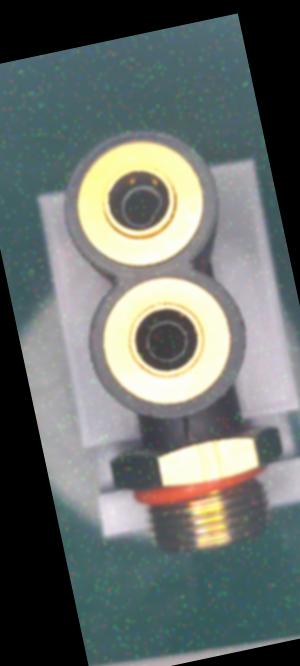craze: (178, 416, 197, 450)
off-centered: (111, 175, 173, 237)
